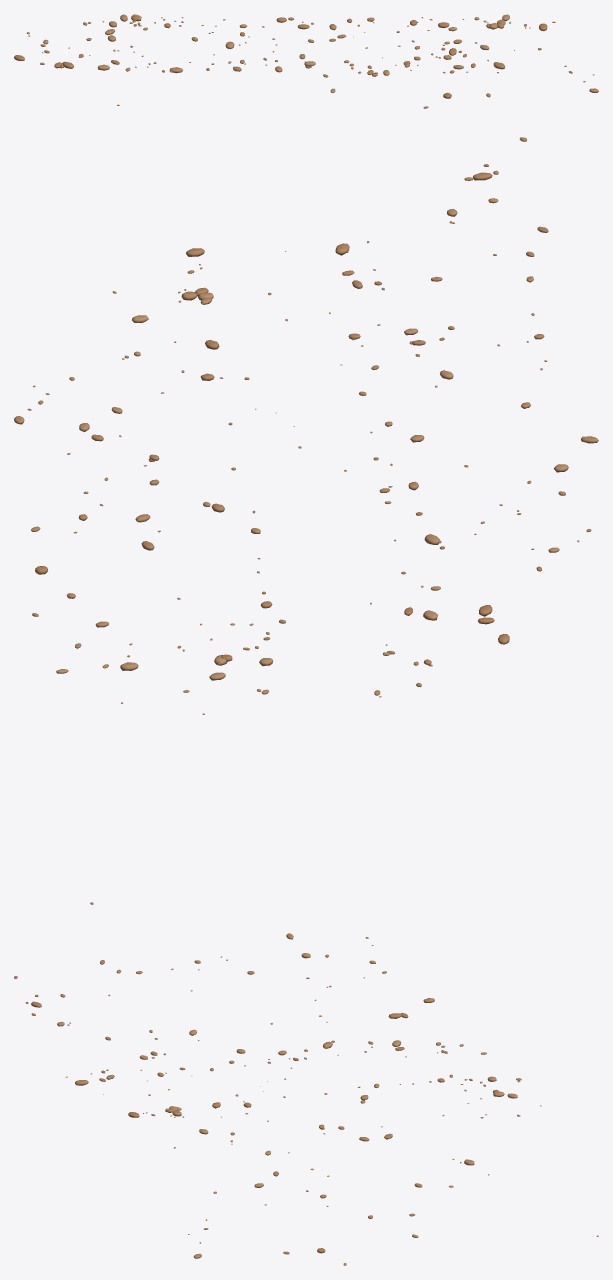
Rendered from terrain-092.glb.
The picture shows the model from 3 angles, top to bottom: view 1: azimuth 30°, elevation 25°; view 2: azimuth 150°, elevation 25°; view 3: azimuth 270°, elevation 25°; orthographic projection. The views are drawn at different scales.
Visible parts, largest first — view 1: terrain-092; view 2: terrain-092; view 3: terrain-092.
Boxes of the visible parts, x1,y1,x2,y2 form: terrain-092: (14, 14, 598, 108); terrain-092: (14, 137, 598, 904); terrain-092: (14, 933, 598, 1265).
Size of the model in its own units: 65.4 by 37.25 by 73.57.
